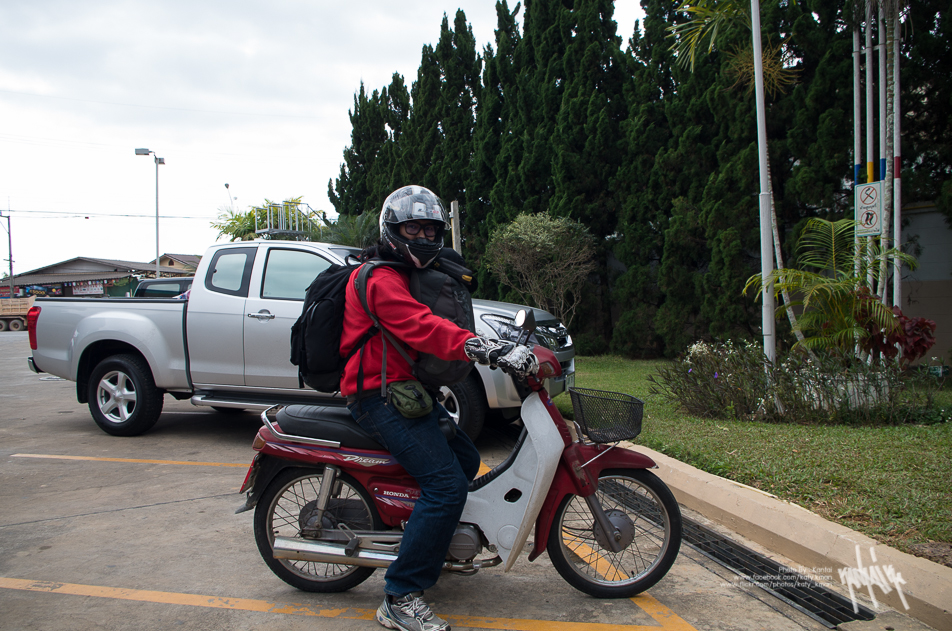helmet: (378, 184, 446, 271)
motorcycle: (252, 346, 684, 597)
